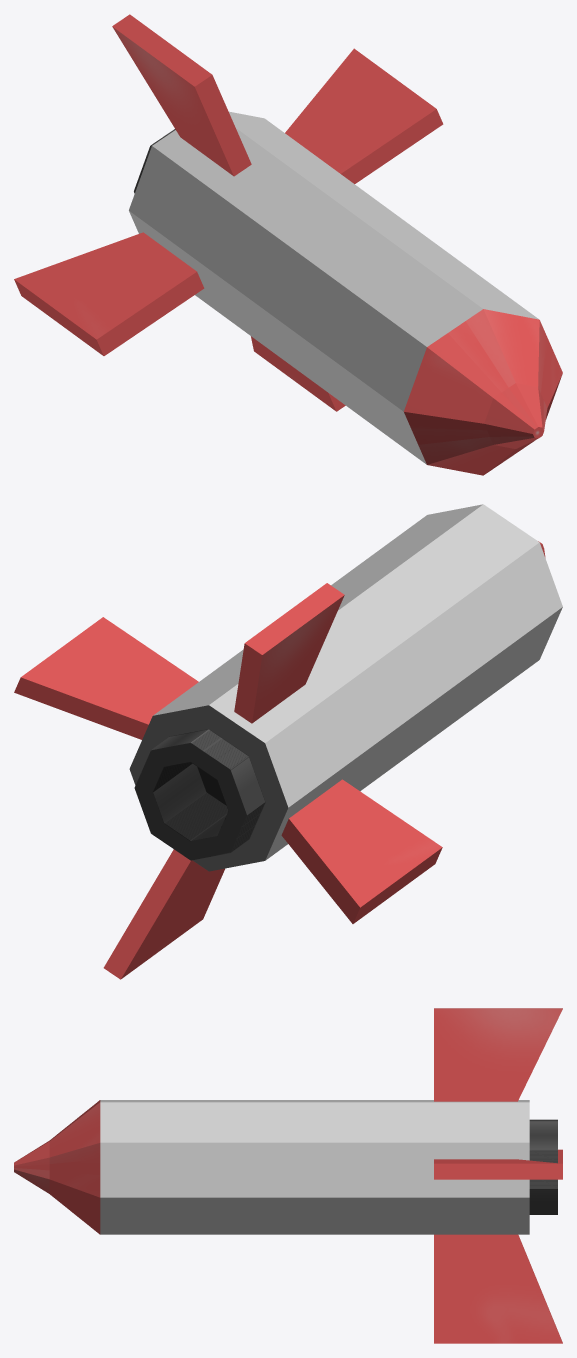
Rendered from missile.fbx.
3 renders of one model, top to bottom at view 1: azimuth 30°, elevation 25°; view 2: azimuth 150°, elevation 25°; view 3: azimuth 270°, elevation 25°, orthographic. The views are drawn at different scales.
Parts seen in each view (by area): view 1: Cylinder; view 2: Cylinder; view 3: Cylinder.
Boxes of the visible parts, box(x1,y1,x2,y2) form: Cylinder: box(14, 14, 562, 475); Cylinder: box(14, 504, 562, 979); Cylinder: box(14, 1008, 562, 1343).
Bounding box in the file's own units: 183 × 185 × 321.
1 material, 1 textured.
